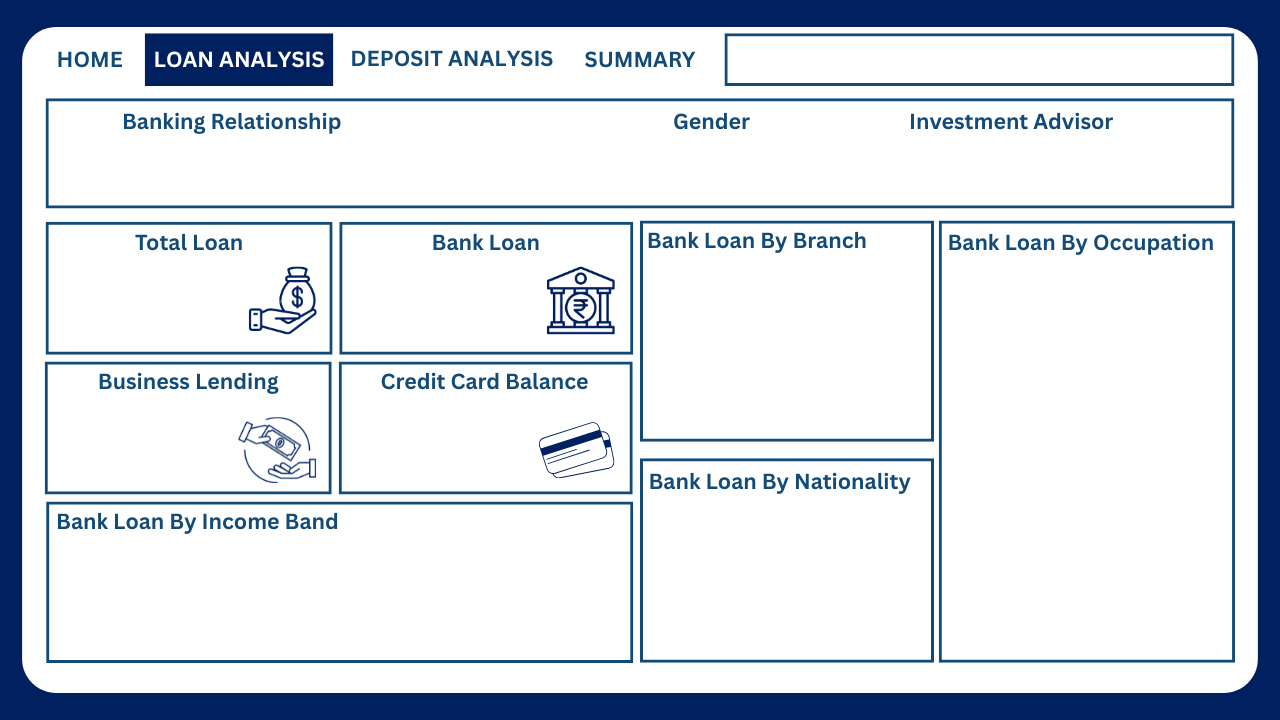

The dashboard page shown, as its layout file describes it:
{"tool":"powerbi","page":{"name":"Loan Analysis","canvas":[1280,720],"ordinal":1},"visuals":[{"type":"card","fields":{"Values":["banking_case customer.Total Loan"]},"box":[18.3,260,271.7,83.3],"z":0},{"type":"card","fields":{"Values":["Sum(banking_case customer.Bank Loans)"]},"box":[313.3,260,271.7,83.3],"z":1000},{"type":"card","fields":{"Values":["Sum(banking_case customer.Business Lending)"]},"box":[18.3,396.7,271.7,85],"z":2000},{"type":"card","fields":{"Values":["Sum(banking_case customer.Credit Card Balance)"]},"box":[315,396.7,271.7,85],"z":3000},{"type":"slicer","fields":{"Values":["banking_case customer.Year Of Joining"]},"box":[703.3,31.7,550,55],"z":4000},{"type":"donutChart","fields":{"Category":["Query1.Income Band"],"Y":["Sum(banking_case customer.Bank Loans)"]},"box":[30.2,520.1,569.5,141.3],"z":5000},{"type":"clusteredColumnChart","fields":{"Category":["banking_case customer.BRId"],"Y":["Sum(banking_case customer.Bank Loans)"]},"box":[639.5,259.3,289.5,179.8],"z":6000},{"type":"clusteredColumnChart","fields":{"Category":["banking_case customer.Nationality"],"Y":["Sum(banking_case customer.Bank Loans)"]},"box":[639.5,481.6,289.5,179.8],"z":7000},{"type":"clusteredColumnChart","fields":{"Category":["banking_case customer.BRId"],"Y":["Sum(banking_case customer.Bank Loans)"]},"box":[941,259.4,289.5,401.7],"z":8000},{"type":"slicer","fields":{"Values":["banking_case customer.BRId"]},"box":[30.2,139.9,569.4,60.3],"z":9000},{"type":"slicer","fields":{"Values":["Query1.GenderId"]},"box":[559.8,139.9,307.6,60.3],"z":10000},{"type":"slicer","fields":{"Values":["banking_case customer.IAId"]},"box":[855.4,139.9,375.2,60.3],"z":11000},{"type":"actionButton","box":[43.4,39.8,90.5,39.8],"z":12000},{"type":"actionButton","box":[339,31.4,220.8,54.3],"z":13000},{"type":"actionButton","box":[576.7,32.6,126.7,54.3],"z":14000}]}

Visuals, with their boxes in screenshot pixels (x1, y1, x2, y2), scaled from the page's 1280x720 canvas onto the 1280x720 screenshot:
card - banking_case customer.Total Loan: (x1=18, y1=260, x2=290, y2=343)
card - Sum(banking_case customer.Bank Loans): (x1=313, y1=260, x2=585, y2=343)
card - Sum(banking_case customer.Business Lending): (x1=18, y1=397, x2=290, y2=482)
card - Sum(banking_case customer.Credit Card Balance): (x1=315, y1=397, x2=587, y2=482)
slicer - banking_case customer.Year Of Joining: (x1=703, y1=32, x2=1253, y2=87)
donutChart - Query1.Income Band x Sum(banking_case customer.Bank Loans): (x1=30, y1=520, x2=600, y2=661)
clusteredColumnChart - banking_case customer.BRId x Sum(banking_case customer.Bank Loans): (x1=640, y1=259, x2=929, y2=439)
clusteredColumnChart - banking_case customer.Nationality x Sum(banking_case customer.Bank Loans): (x1=640, y1=482, x2=929, y2=661)
clusteredColumnChart - banking_case customer.BRId x Sum(banking_case customer.Bank Loans): (x1=941, y1=259, x2=1230, y2=661)
slicer - banking_case customer.BRId: (x1=30, y1=140, x2=600, y2=200)
slicer - Query1.GenderId: (x1=560, y1=140, x2=867, y2=200)
slicer - banking_case customer.IAId: (x1=855, y1=140, x2=1231, y2=200)
actionButton: (x1=43, y1=40, x2=134, y2=80)
actionButton: (x1=339, y1=31, x2=560, y2=86)
actionButton: (x1=577, y1=33, x2=703, y2=87)
